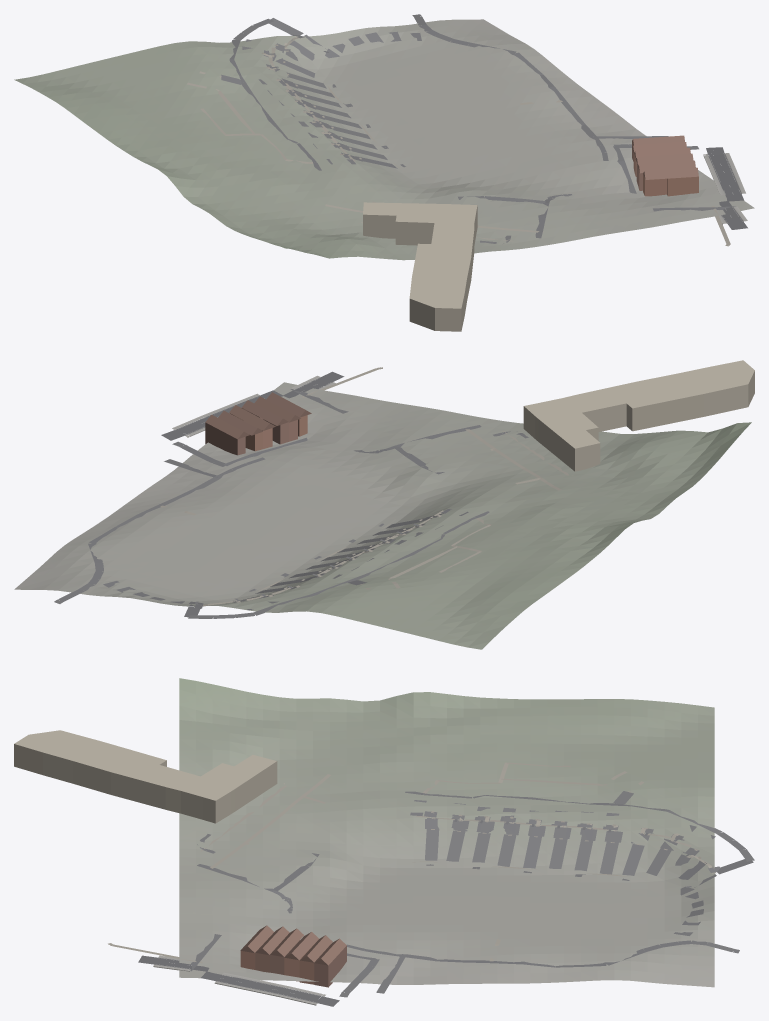
The model's file is tile_-9_-3.glb.
3 views of the same model, one above another, from view 1: azimuth 30°, elevation 25°; view 2: azimuth 150°, elevation 25°; view 3: azimuth 270°, elevation 25° (orthographic).
Visible parts, largest first — view 1: terrain, buildings, roads, paths, sidewalks; view 2: terrain, buildings, roads, paths, sidewalks; view 3: terrain, buildings, roads, paths, sidewalks.
Boxes of the visible parts, left/top/right/bottom form: terrain: left=14, top=19, right=754, bottom=260; buildings: left=363, top=135, right=698, bottom=331; roads: left=221, top=14, right=747, bottom=243; paths: left=187, top=36, right=730, bottom=246; sidewalks: left=703, top=153, right=747, bottom=224; terrain: left=14, top=382, right=751, bottom=649; buildings: left=205, top=360, right=754, bottom=471; roads: left=54, top=371, right=528, bottom=618; paths: left=160, top=367, right=573, bottom=606; sidewalks: left=172, top=375, right=335, bottom=437; terrain: left=179, top=678, right=714, bottom=987; buildings: left=14, top=730, right=346, bottom=987; roads: left=138, top=791, right=754, bottom=1006; paths: left=108, top=762, right=715, bottom=963; sidewalks: left=153, top=955, right=325, bottom=1005.
Size of the model in its own units: 281 by 43.8 by 354.
